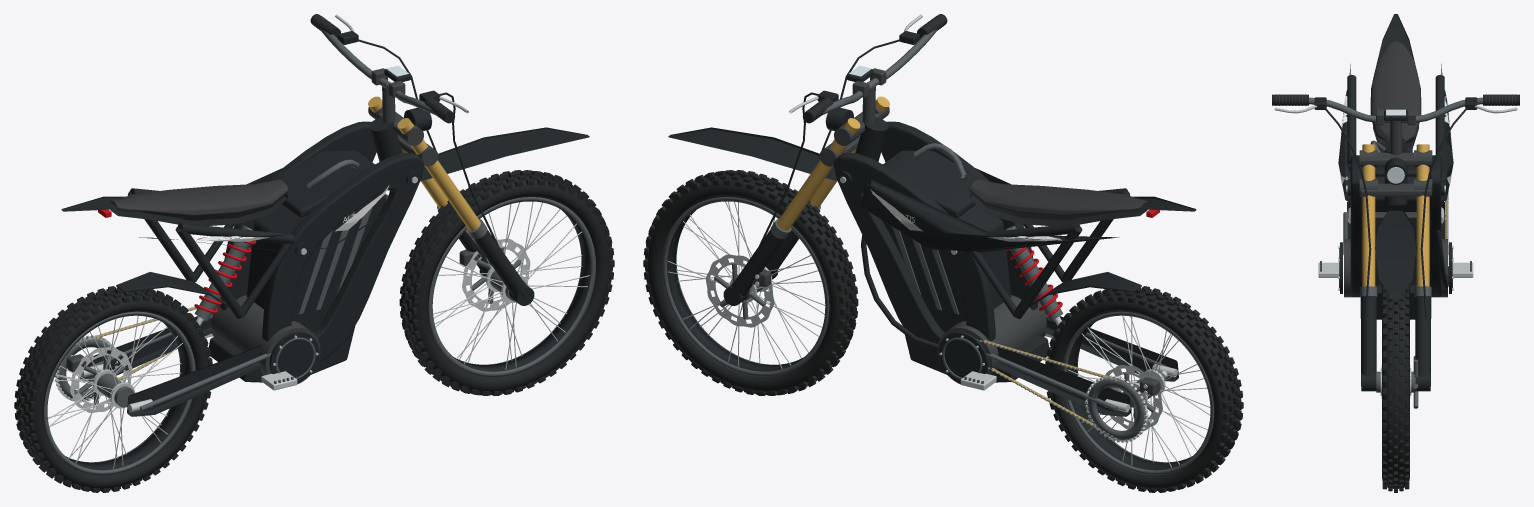
File: altis-sigma-mx.glb
3 views of the same model, side by side, from view 1: azimuth 30°, elevation 25°; view 2: azimuth 150°, elevation 25°; view 3: azimuth 270°, elevation 25° (orthographic). The views are drawn at different scales.
Visible parts, largest first — view 1: Chassis | Satin black polymer, FrontWheel | Offroad tyre rubber, RearWheel | Offroad tyre rubber, BatteryMount | Satin black polymer, RearSuspension | Satin black polymer, Bodywork | Satin black polymer, Bodywork | Grained charcoal saddle, FrontWheel | Machined satin aluminium, RearWheel | Machined satin aluminium, FrontWheel | Anodized gunmetal, RearWheel | Anodized gunmetal, MotorMount | Satin black polymer (+15 smaller); view 2: FrontWheel | Offroad tyre rubber, Chassis | Satin black polymer, RearWheel | Offroad tyre rubber, Bodywork | Satin black polymer, RearSuspension | Satin black polymer, BatteryMount | Satin black polymer, Bodywork | Grained charcoal saddle, FrontWheel | Machined satin aluminium, MotorMount | Satin black polymer, FrontWheel | Anodized gunmetal, RearWheel | Machined satin aluminium, RearWheel | Anodized gunmetal (+17 smaller); view 3: FrontWheel | Offroad tyre rubber, Bodywork | Satin black polymer, Chassis | Satin black polymer, Bodywork | Grained charcoal saddle, Fork | Satin black polymer, Fork | Gold fork anodizing, Fork | Cast graphite aluminium, Cockpit | Satin black polymer, RearSuspension | Satin black polymer, MotorMount | Satin black polymer, Cockpit | Anodized gunmetal, Cockpit | Offroad tyre rubber (+11 smaller).
Boxes of the visible parts, x1,y1,x2,y2 form: Chassis | Satin black polymer: (220, 117, 424, 362); FrontWheel | Offroad tyre rubber: (399, 170, 614, 395); RearWheel | Offroad tyre rubber: (14, 286, 212, 492); BatteryMount | Satin black polymer: (246, 150, 386, 332); RearSuspension | Satin black polymer: (80, 188, 294, 416); Bodywork | Satin black polymer: (61, 127, 589, 307); Bodywork | Grained charcoal saddle: (110, 179, 288, 220); FrontWheel | Machined satin aluminium: (433, 201, 589, 369); RearWheel | Machined satin aluminium: (48, 315, 182, 468); FrontWheel | Anodized gunmetal: (428, 197, 595, 376); RearWheel | Anodized gunmetal: (44, 311, 195, 475); MotorMount | Satin black polymer: (208, 326, 355, 383); FrontWheel | Offroad tyre rubber: (643, 170, 858, 395); Chassis | Satin black polymer: (833, 117, 1038, 362); RearWheel | Offroad tyre rubber: (1045, 286, 1243, 492); Bodywork | Satin black polymer: (668, 127, 1196, 307); RearSuspension | Satin black polymer: (970, 188, 1178, 416); BatteryMount | Satin black polymer: (882, 150, 1011, 332); Bodywork | Grained charcoal saddle: (969, 179, 1147, 220); FrontWheel | Machined satin aluminium: (668, 201, 825, 368); MotorMount | Satin black polymer: (861, 235, 1049, 383); FrontWheel | Anodized gunmetal: (662, 197, 829, 376); RearWheel | Machined satin aluminium: (1068, 315, 1210, 467); RearWheel | Anodized gunmetal: (1062, 311, 1213, 475); FrontWheel | Offroad tyre rubber: (1382, 284, 1409, 492); Bodywork | Satin black polymer: (1338, 14, 1453, 301); Chassis | Satin black polymer: (1347, 149, 1444, 297); Bodywork | Grained charcoal saddle: (1370, 41, 1421, 144); Fork | Satin black polymer: (1361, 296, 1430, 391); Fork | Gold fork anodizing: (1362, 144, 1429, 286); Fork | Cast graphite aluminium: (1359, 150, 1432, 196); Cockpit | Satin black polymer: (1314, 97, 1477, 323); RearSuspension | Satin black polymer: (1347, 74, 1444, 238); MotorMount | Satin black polymer: (1340, 230, 1451, 319); Cockpit | Anodized gunmetal: (1309, 97, 1482, 122); Cockpit | Offroad tyre rubber: (1272, 94, 1519, 105).
Bounding box in the file's own units: 1.92 × 1.12 × 0.756.
